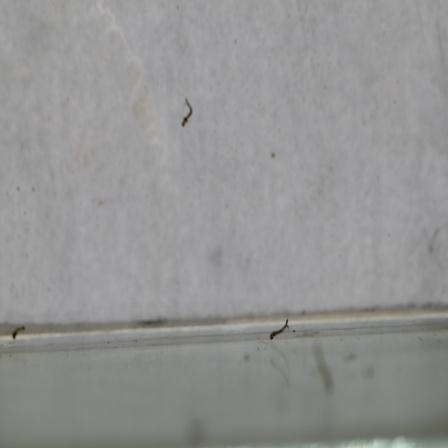Jentik-Nyamuk: (267, 316, 291, 343), (178, 94, 197, 128), (8, 321, 28, 343)
